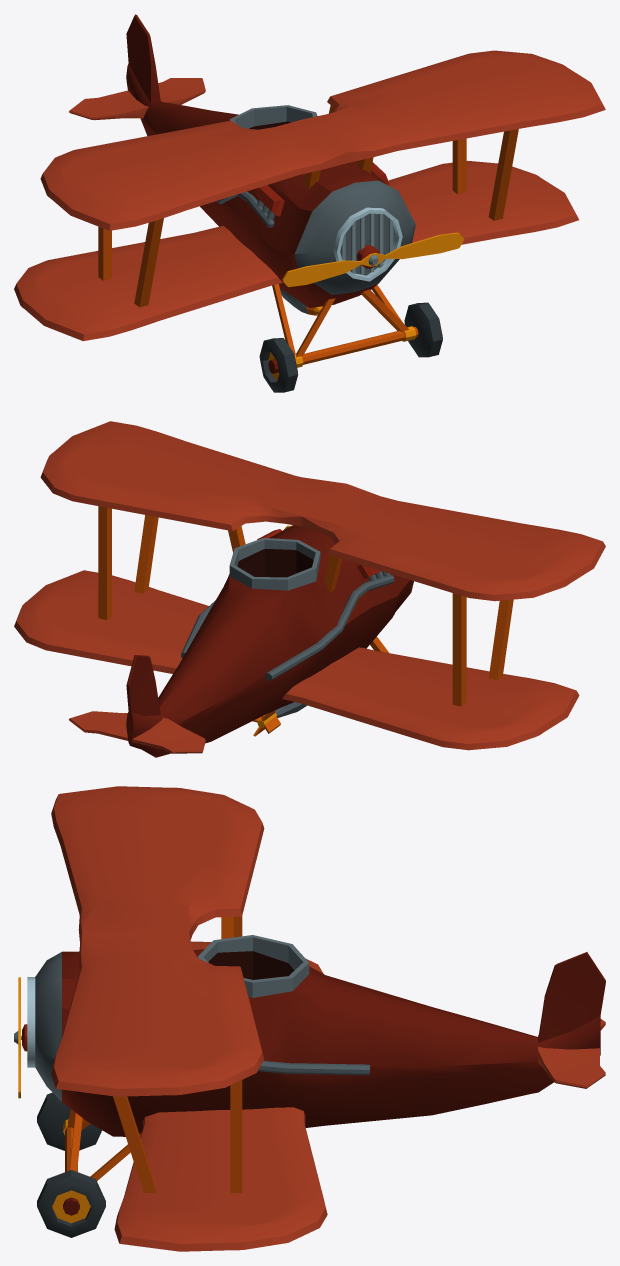
The model's file is red-plane.glb.
3 renders of one model, top to bottom at view 1: azimuth 30°, elevation 25°; view 2: azimuth 150°, elevation 25°; view 3: azimuth 270°, elevation 25°, orthographic. The views are drawn at different scales.
Parts seen in each view (by area): view 1: Plane, Propeller; view 2: Plane, Bomb; view 3: Plane.
Part boxes in pixels (x1,y1,x2,y2): Plane: [14, 14, 605, 392]; Propeller: [282, 232, 464, 287]; Plane: [14, 421, 605, 757]; Bomb: [252, 702, 306, 736]; Plane: [27, 786, 605, 1251].
Bounding box in the file's own units: 3.56 × 1.42 × 2.92.
Materials: 1 (1 with a texture image).
